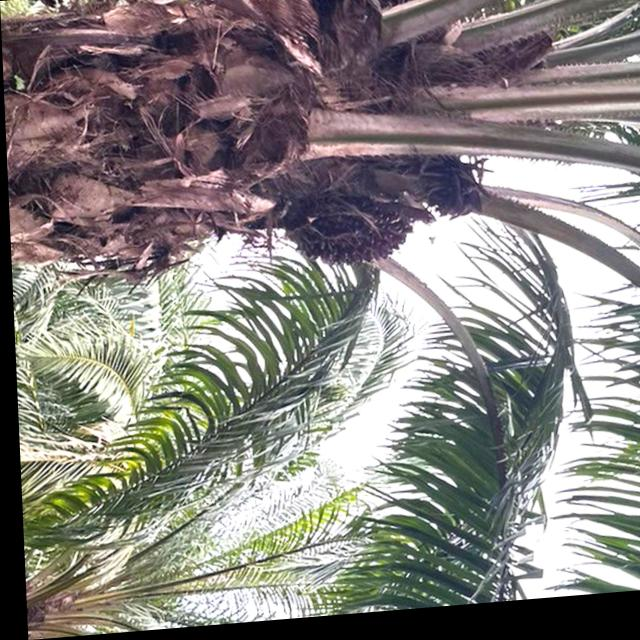ripe: (290, 199, 425, 281)
